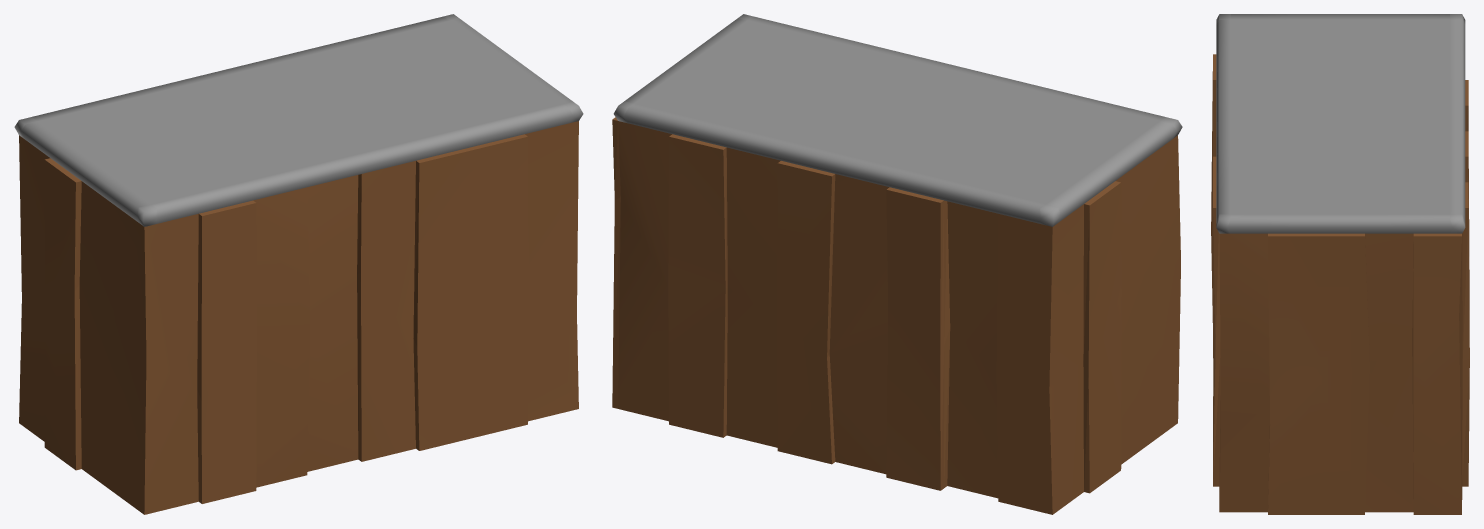
Rendered from ShopCounter.fbx.
3 renders of one model, left to right at view 1: azimuth 30°, elevation 25°; view 2: azimuth 150°, elevation 25°; view 3: azimuth 270°, elevation 25°, orthographic. The views are drawn at different scales.
Visible parts, largest first — view 1: ShopCounter; view 2: ShopCounter; view 3: ShopCounter.
Boxes of the visible parts, x1,y1,x2,y2 form: ShopCounter: (14,14,583,514); ShopCounter: (612,14,1182,514); ShopCounter: (1211,14,1469,514).
Size of the model in its own units: 156 by 100 by 80.02.
